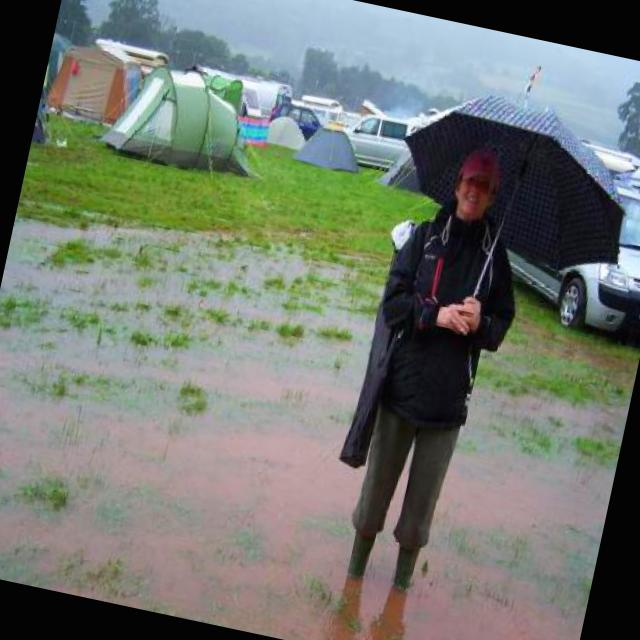Person: (314, 135, 545, 604)
